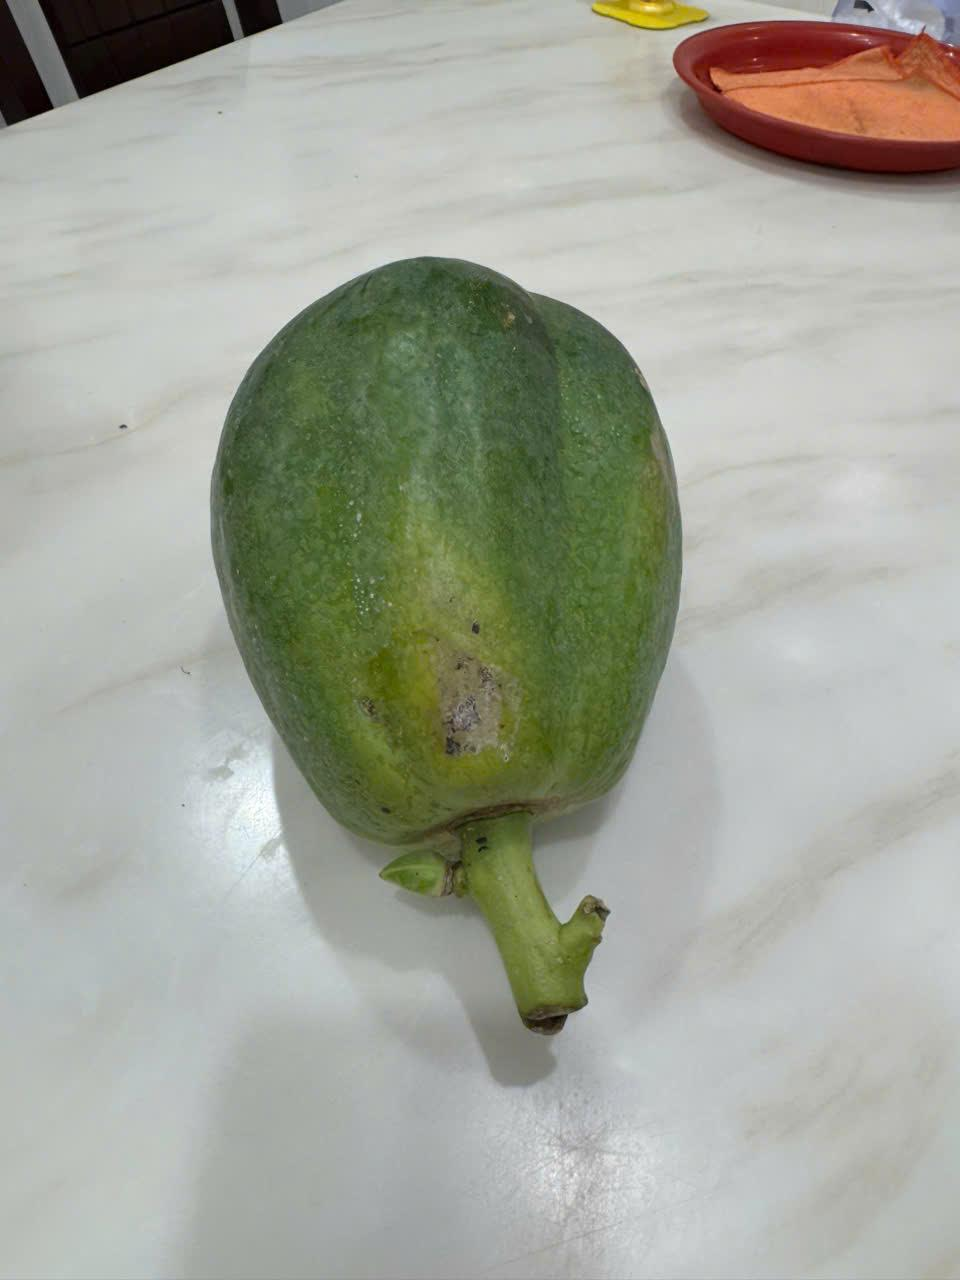papaya: (178, 212, 709, 1047)
